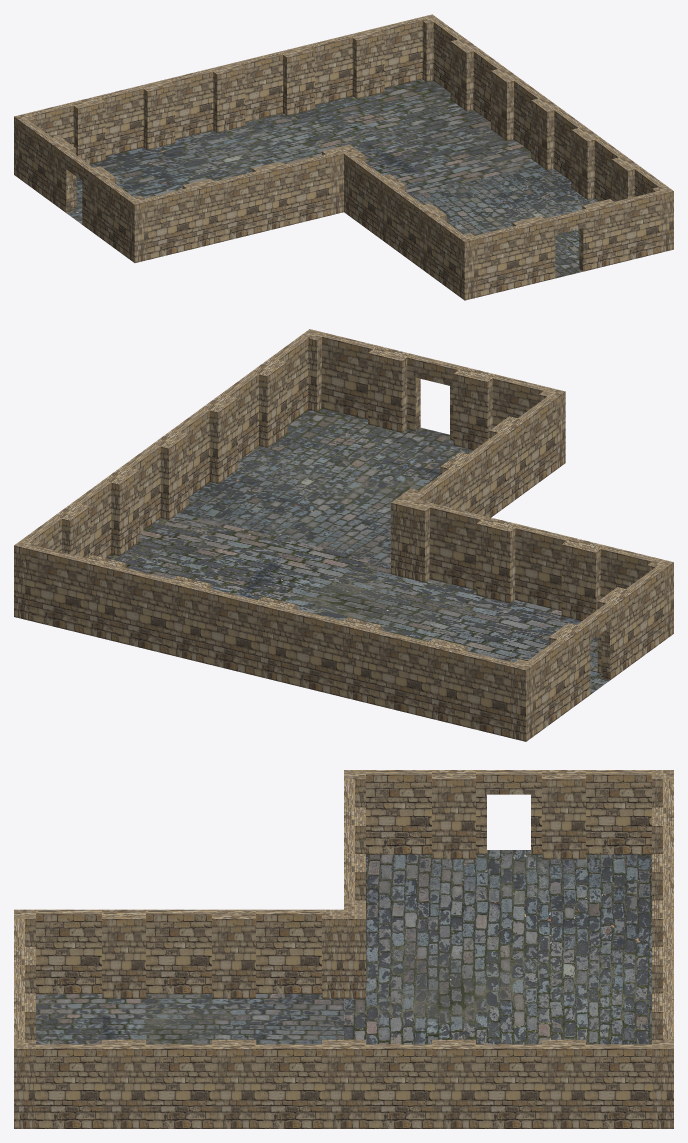
The model's file is 1_3wideLRoom.fbx.
The picture shows the model from 3 angles, top to bottom: view 1: azimuth 30°, elevation 25°; view 2: azimuth 150°, elevation 25°; view 3: azimuth 270°, elevation 25°; orthographic projection. The views are drawn at different scales.
Visible parts, largest first — view 1: Cube_1, Plane_1; view 2: Cube_1, Plane_1; view 3: Cube_1, Plane_1.
Part boxes in pixels (x1=…): Cube_1: x1=14, y1=14, x2=673, y2=300; Plane_1: x1=66, y1=79, x2=598, y2=278; Cube_1: x1=14, y1=329, x2=673, y2=741; Plane_1: x1=106, y1=408, x2=609, y2=694; Cube_1: x1=14, y1=770, x2=673, y2=1128; Plane_1: x1=36, y1=850, x2=651, y2=1044.
Size of the model in its own units: 60 by 8 by 60.
2 materials, 2 textured.
